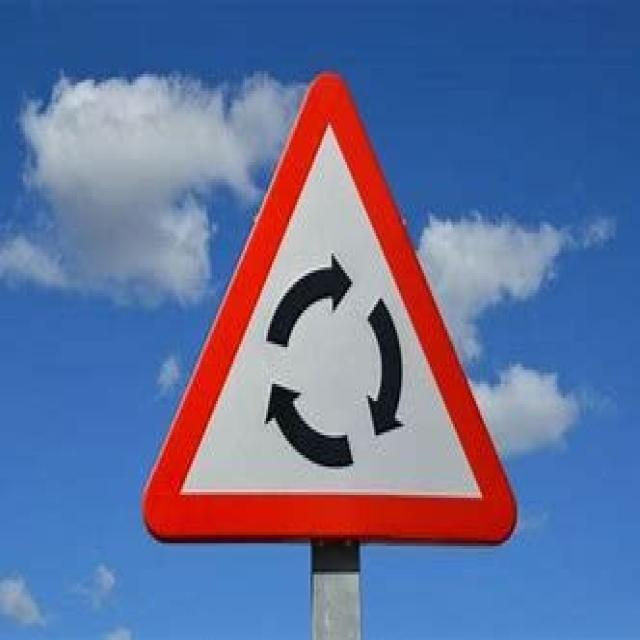roundabout: (140, 72, 520, 553)
